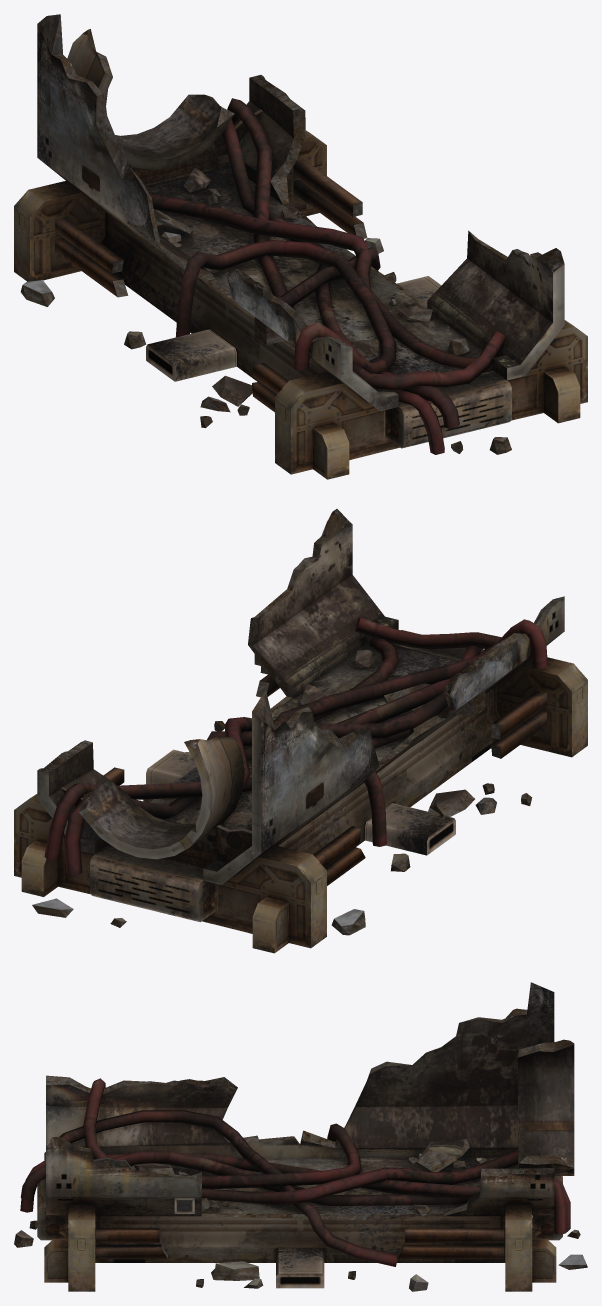
File: Generator_Habitat_Exploded.DAE
3 renders of one model, top to bottom at view 1: azimuth 30°, elevation 25°; view 2: azimuth 150°, elevation 25°; view 3: azimuth 270°, elevation 25°, orthographic. The views are drawn at different scales.
Visible parts, largest first — view 1: Generator_Habitat_Exploded; view 2: Generator_Habitat_Exploded; view 3: Generator_Habitat_Exploded.
Boxes of the visible parts, <box> form: Generator_Habitat_Exploded: <box>14,14,587,479</box>; Generator_Habitat_Exploded: <box>14,509,587,953</box>; Generator_Habitat_Exploded: <box>14,982,587,1291</box>.
Bounding box in the file's own units: 243 × 452 × 182.
